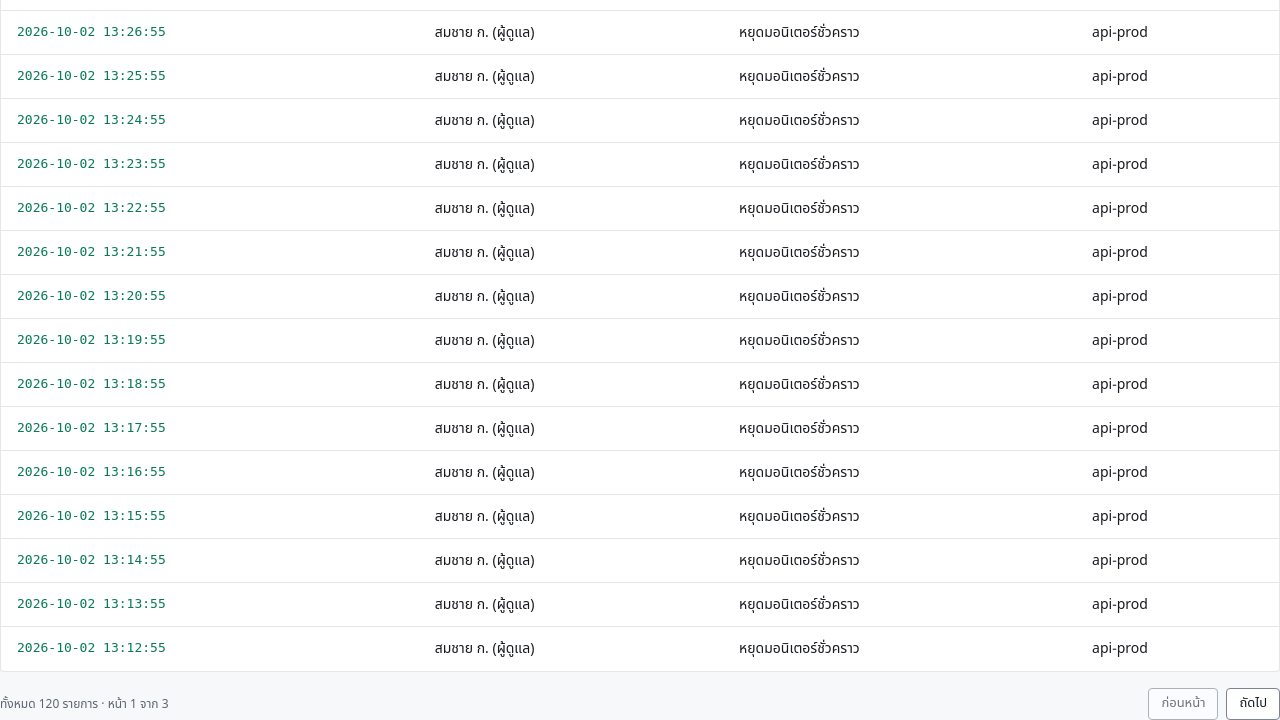
Test: AuditLogPage paging and filters › keeps asOf on a page change and drops it on a filter change
The image size is (1280, 720).
(page scrolled)
Click the button with test id "audit-page-next": (1253, 704) [1226, 688, 1279, 719]
(page scrolled)
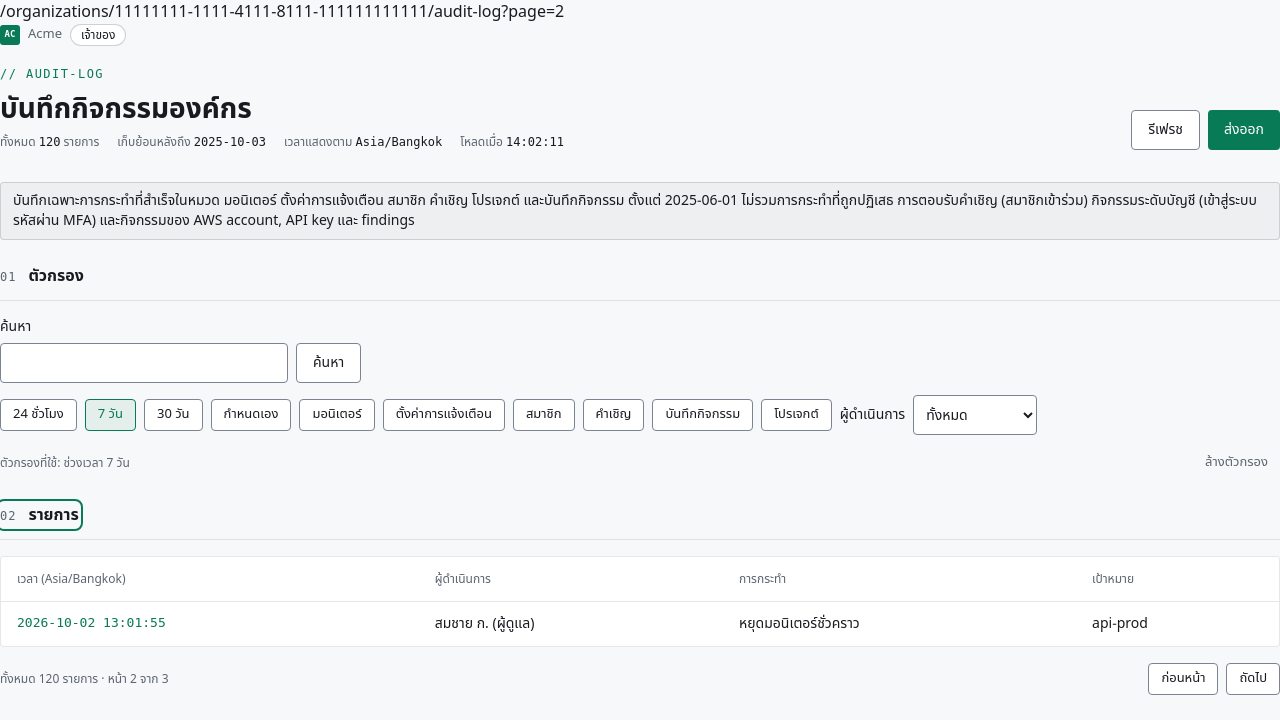
Expected: the text with test id "location" shows "page=2", [0, 0, 564, 24]
Click the button with test id "audit-filter-category-member": (544, 415) [513, 399, 575, 431]
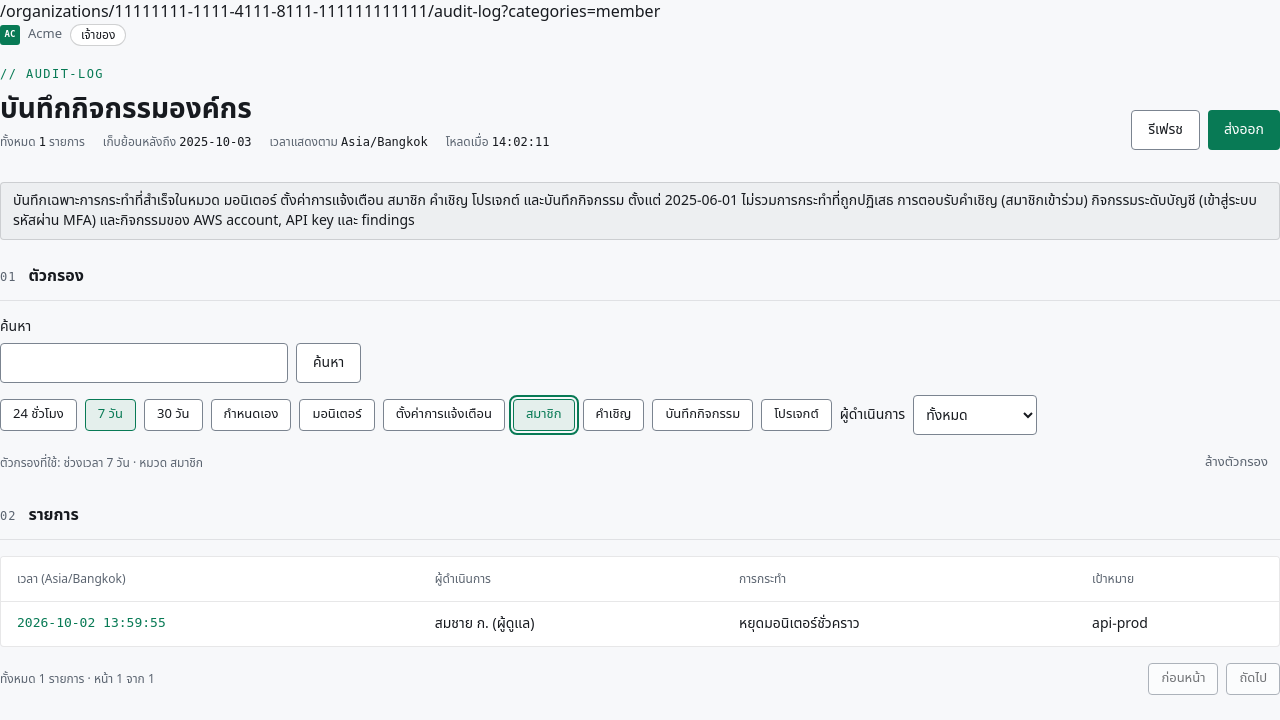
Expected: the text with test id "location" shows "categories=member", [0, 0, 660, 24]
Expected: the text with test id "location" no longer shows "page="
